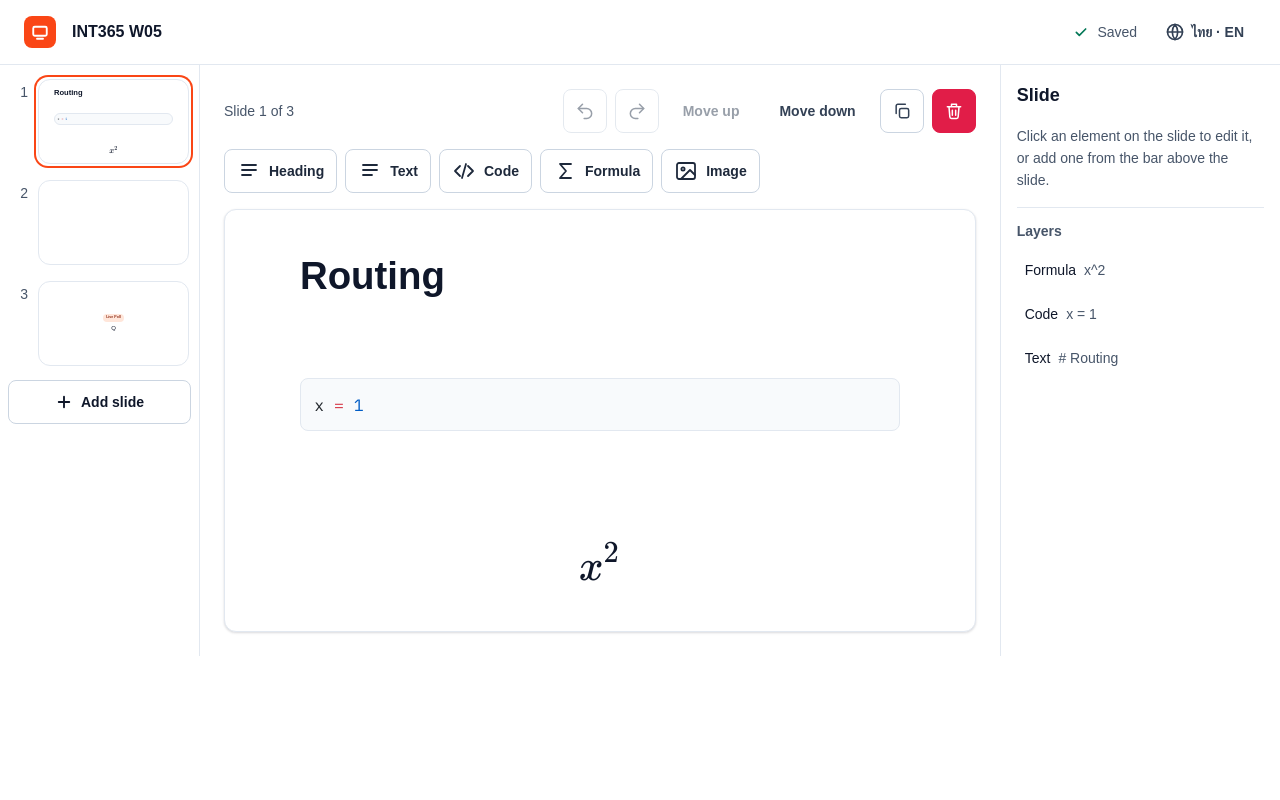
Scenario: DeckEditor: the canvas › shows the layers when nothing is selected, front first, and selects from them
expect the heading "INT365 W05" is shown: met, box [72,23,162,40]
expect the text "Click an element on the slide to edit it, or add one from the bar above the slide." is shown: met, box [1017,128,1252,188]
Step 1. Click the button "Code x = 1" → [1140, 314], box [1017,294,1264,334]
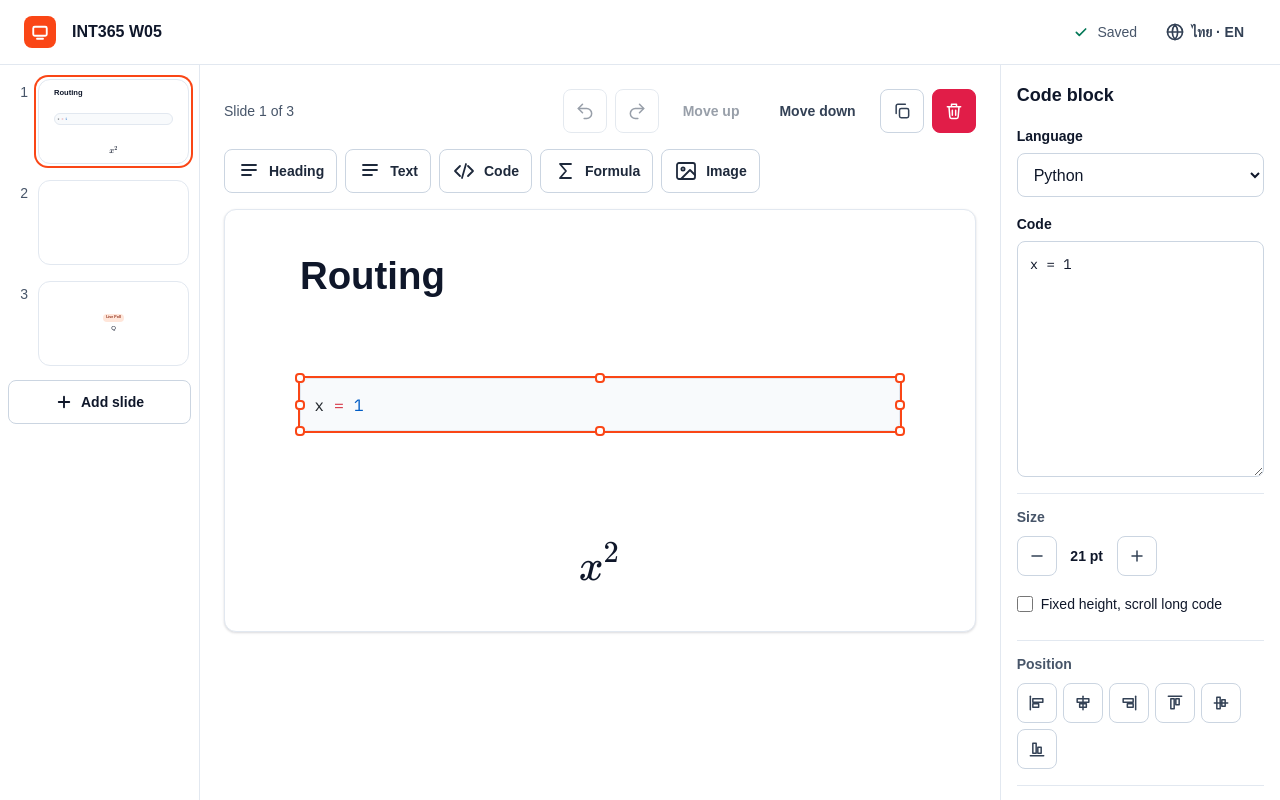
expect the heading "Code block" is shown: met, box [1017,85,1114,105]
